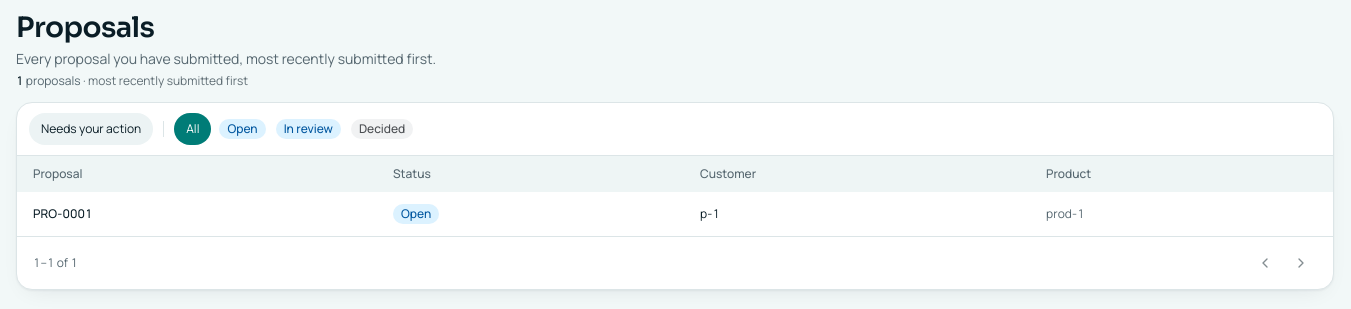
Test: AgentProposalsPage › folds Needs your action in as a view of the same page
Expected: the text "PRO-0001" is shown, 33,206 -> 93,222
Click the button "Needs your action" at (91, 129), box 29,113 -> 153,145
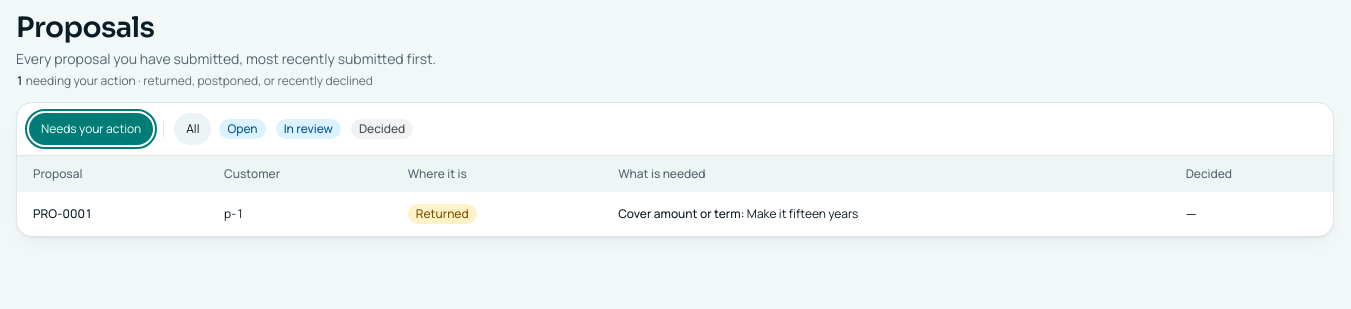
Expected: the text "Cover amount or term: Make it fifteen years" is shown, 618,206 -> 858,222
